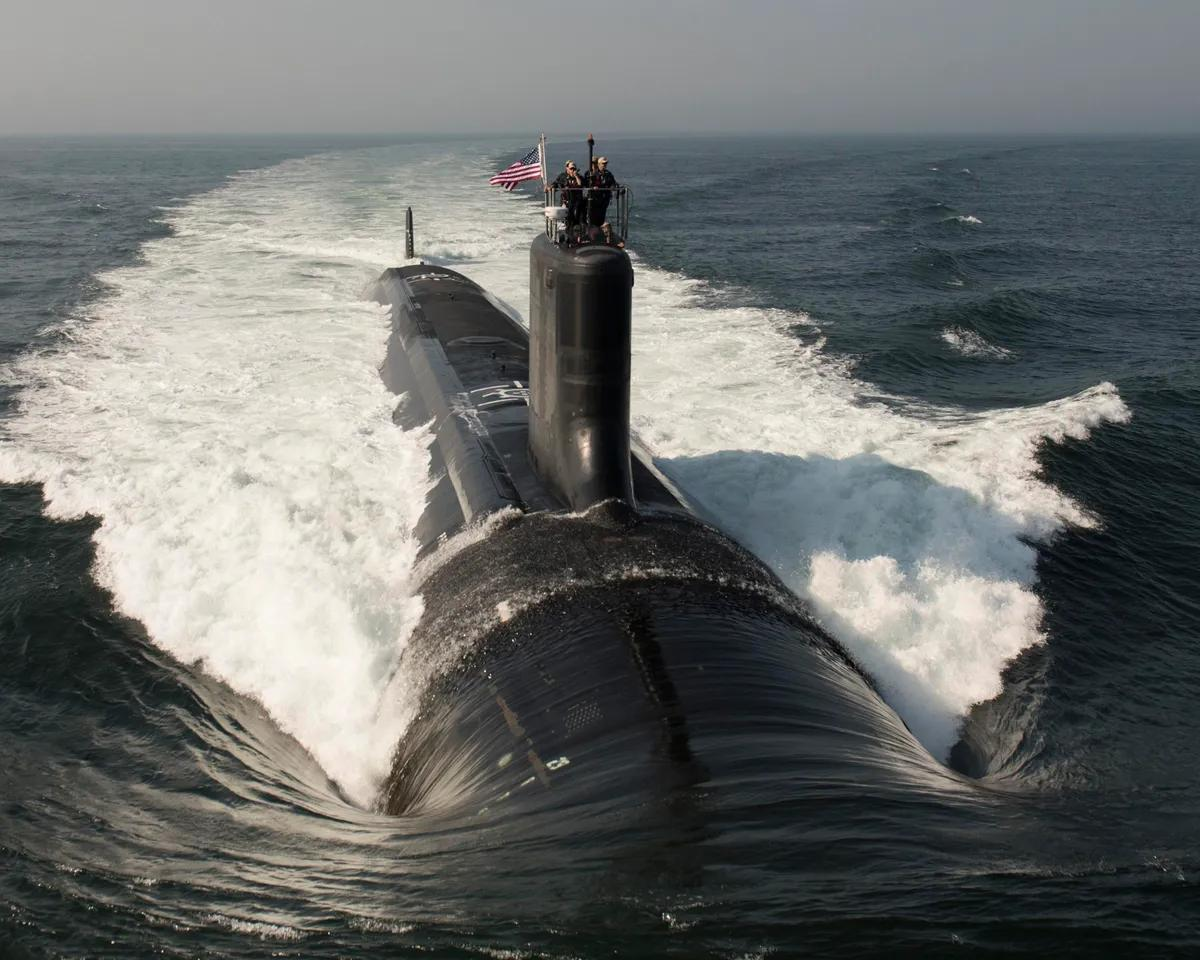Submarine: (53, 25, 1040, 960)
